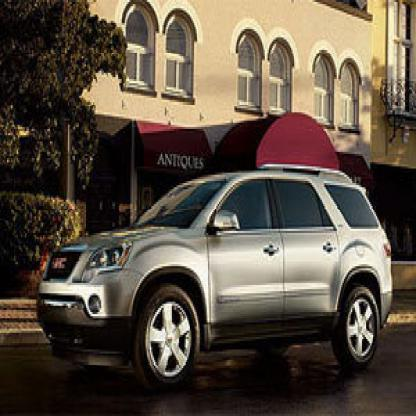Vehicle: (35, 164, 398, 391)
